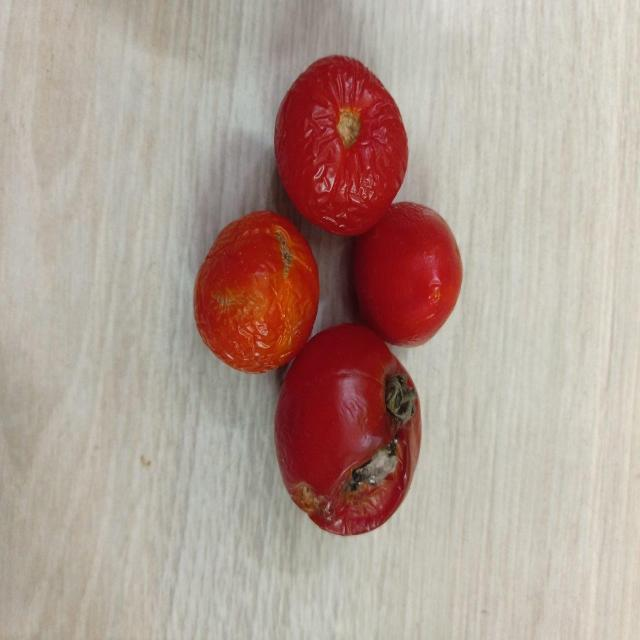Rotten: (272, 322, 423, 538)
overripe: (274, 58, 408, 236), (189, 212, 316, 374)
